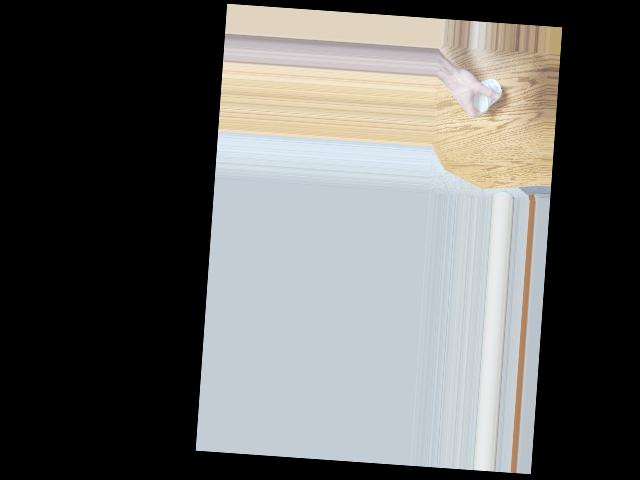cotage: (466, 73, 500, 114)
